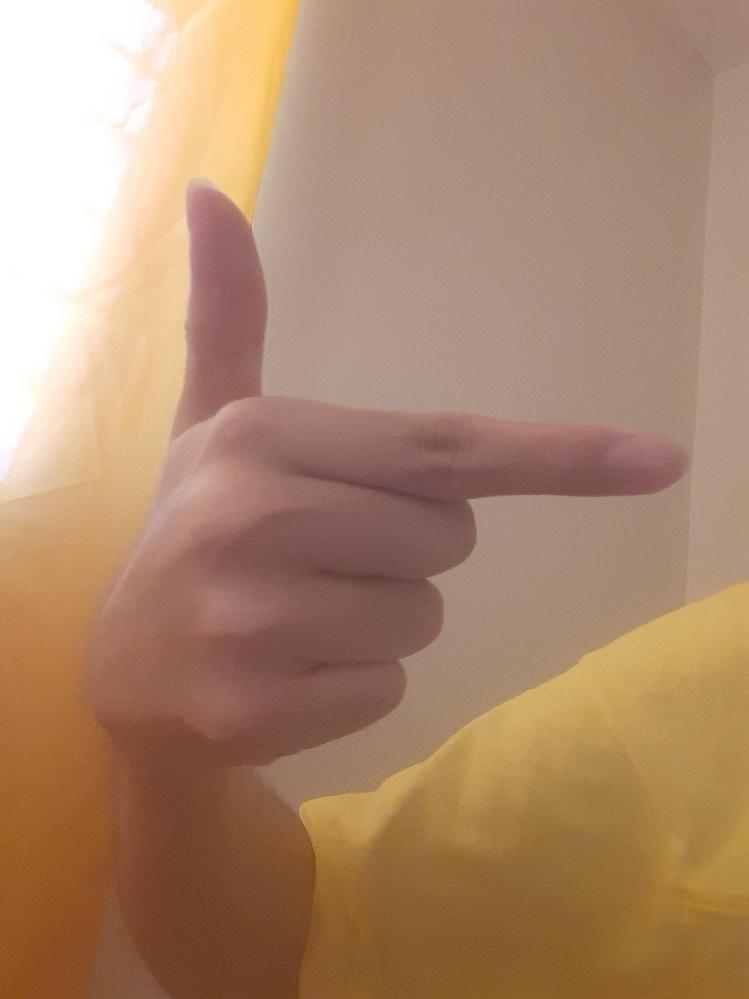g: (122, 171, 691, 764)
